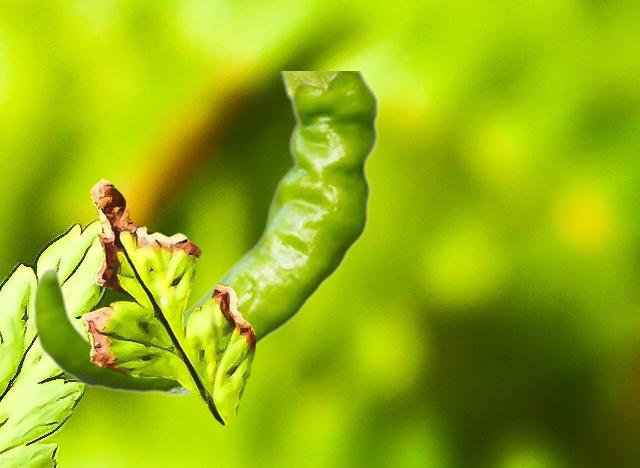green_chili: (32, 71, 380, 396)
